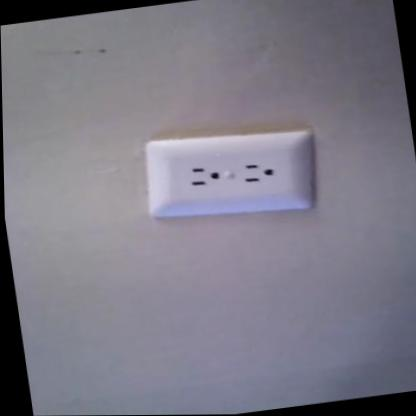OUTLET: (142, 120, 323, 225)
